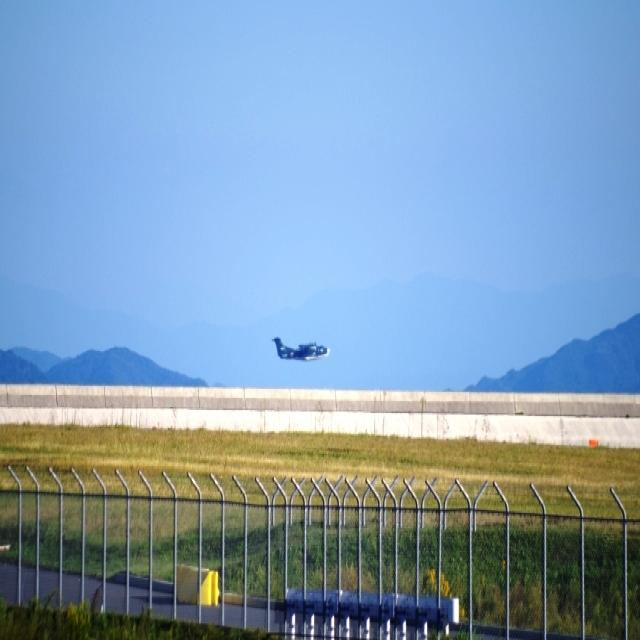MIL_Plane: (270, 336, 332, 363)
